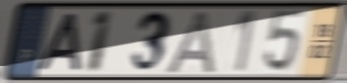1: (231, 8, 258, 76), (88, 9, 113, 75)
3: (129, 8, 176, 76)
5: (261, 8, 307, 76)
A: (161, 8, 216, 75), (34, 11, 84, 73)
